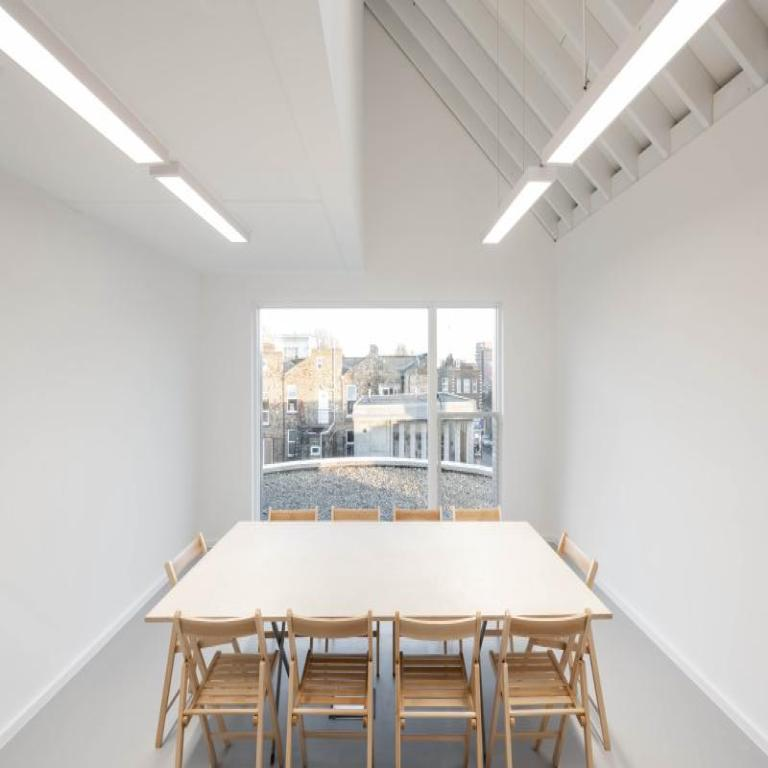white-walls: (529, 172, 756, 525)
